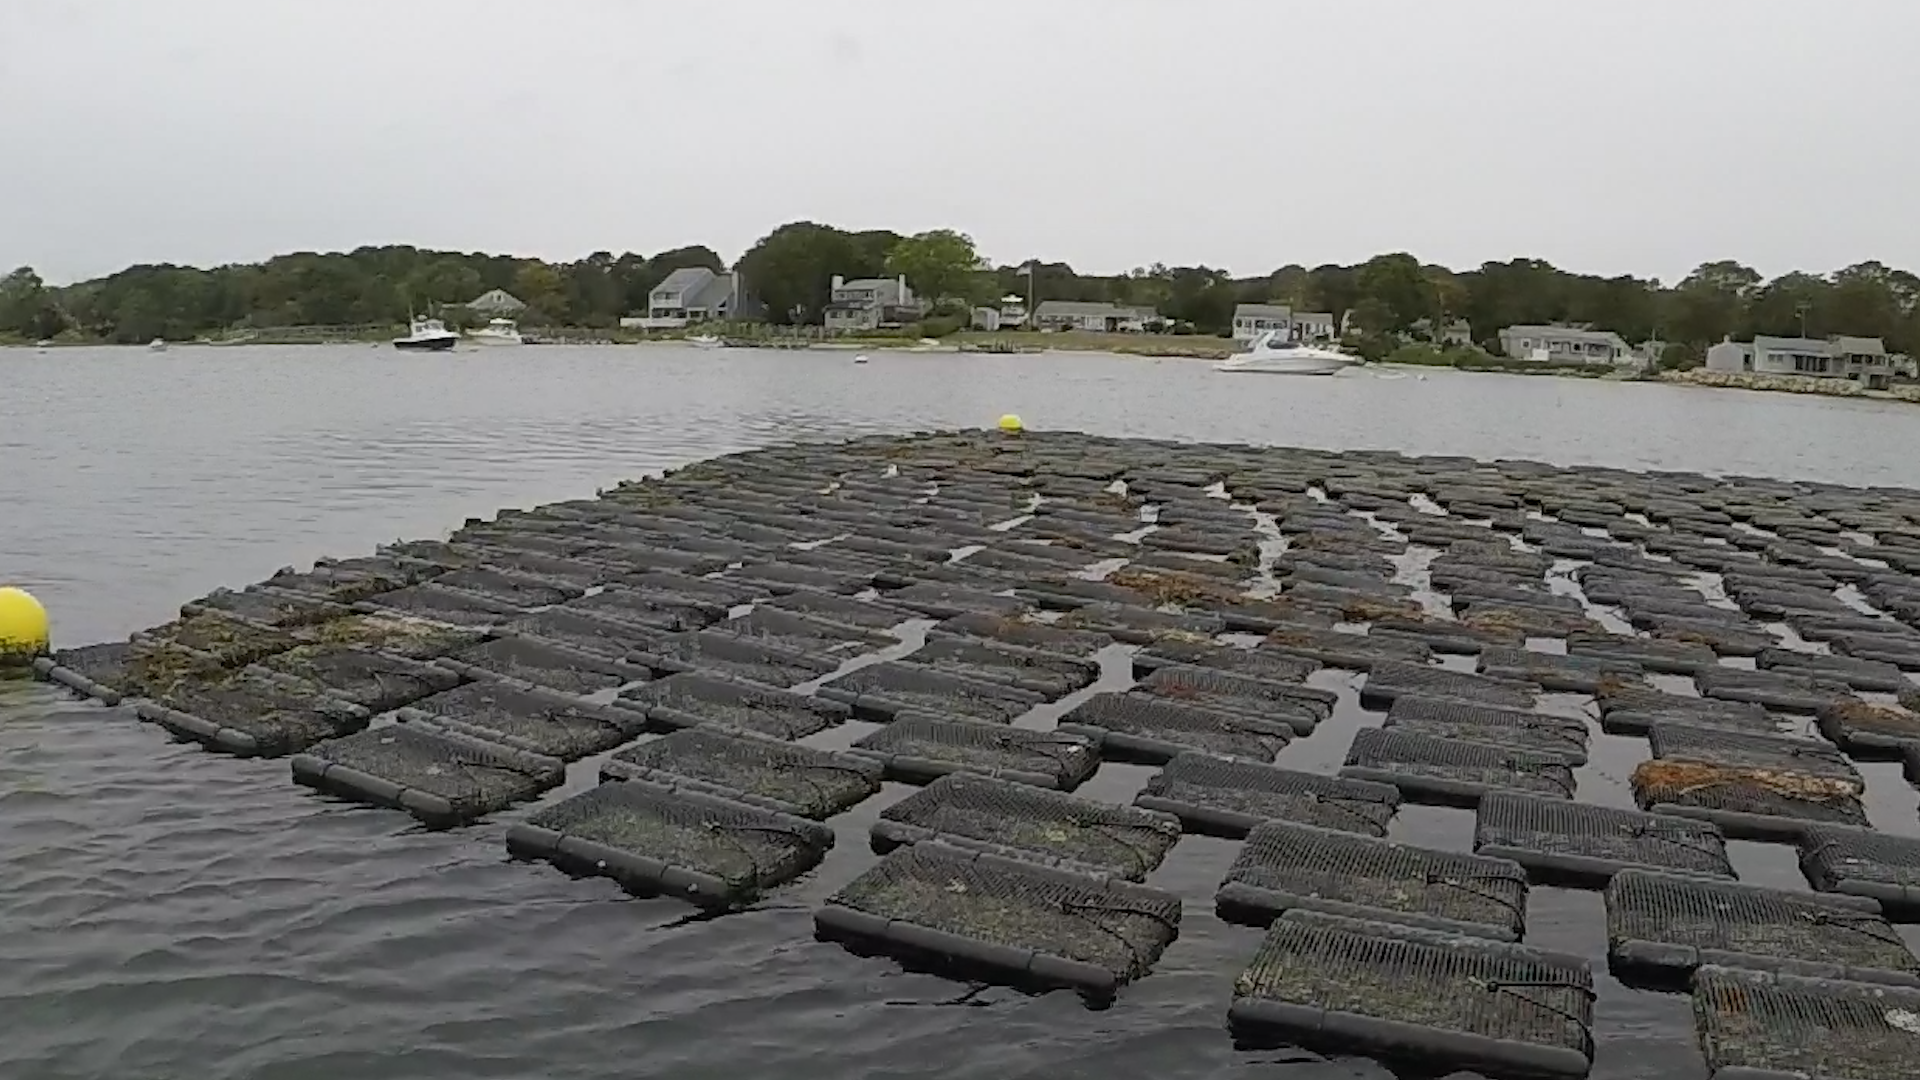bag: (810, 843, 1188, 1004), (506, 789, 840, 916), (278, 717, 570, 827), (142, 678, 368, 757)
